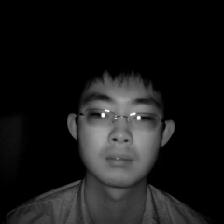normal: (64, 52, 181, 193)
